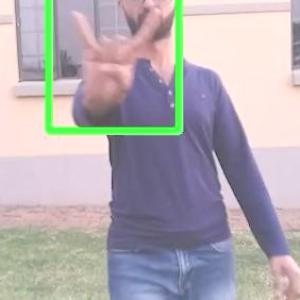takeoff-hand: (61, 0, 167, 125)
